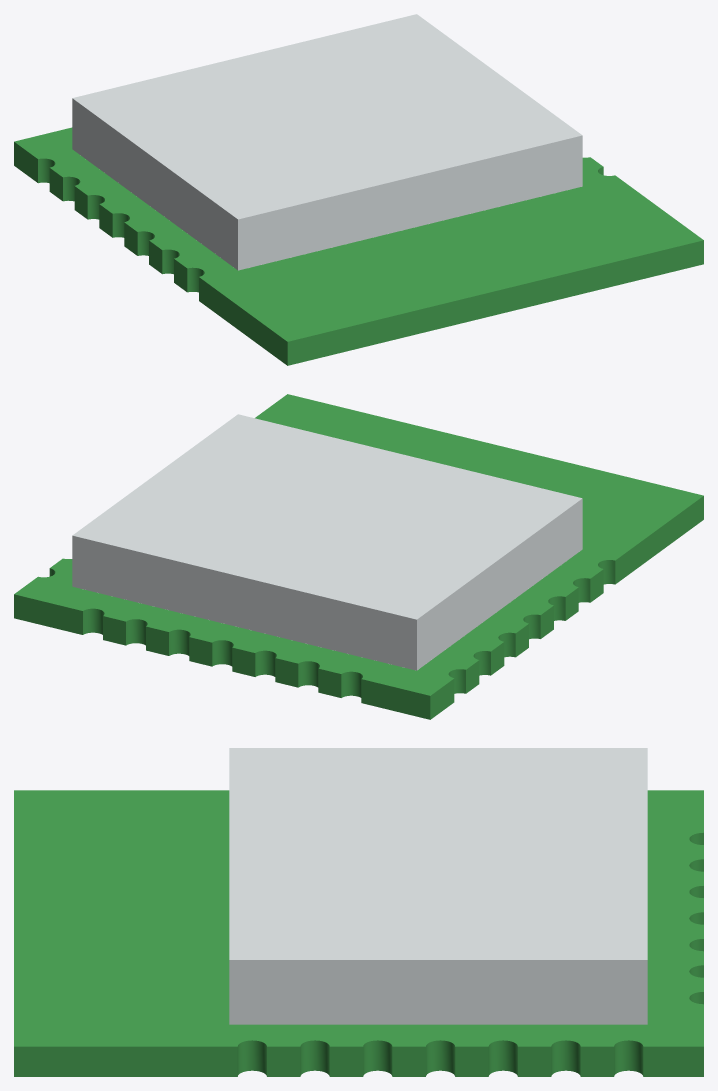
File: sfe-rm2.glb
3 renders of one model, top to bottom at view 1: azimuth 30°, elevation 25°; view 2: azimuth 150°, elevation 25°; view 3: azimuth 270°, elevation 25°, orthographic. The views are drawn at different scales.
Visible parts, largest first — view 1: 0.75_0.8333333333333334_0.8333333333333334_0.85, 0.08333333333333333_0.4166666666666667_0.08333333333333333_0; view 2: 0.75_0.8333333333333334_0.8333333333333334_0.85, 0.08333333333333333_0.4166666666666667_0.08333333333333333_0; view 3: 0.75_0.8333333333333334_0.8333333333333334_0.85, 0.08333333333333333_0.4166666666666667_0.08333333333333333_0.
Part boxes in pixels (x1=…): 0.75_0.8333333333333334_0.8333333333333334_0.85: x1=72, y1=14, x2=582, y2=270; 0.08333333333333333_0.4166666666666667_0.08333333333333333_0: x1=14, y1=127, x2=703, y2=365; 0.75_0.8333333333333334_0.8333333333333334_0.85: x1=72, y1=414, x2=582, y2=670; 0.08333333333333333_0.4166666666666667_0.08333333333333333_0: x1=14, y1=394, x2=703, y2=719; 0.75_0.8333333333333334_0.8333333333333334_0.85: x1=229, y1=748, x2=647, y2=1024; 0.08333333333333333_0.4166666666666667_0.08333333333333333_0: x1=14, y1=790, x2=703, y2=1076.
Bounding box in the file's own units: 1.45 × 0.2499 × 1.65.
